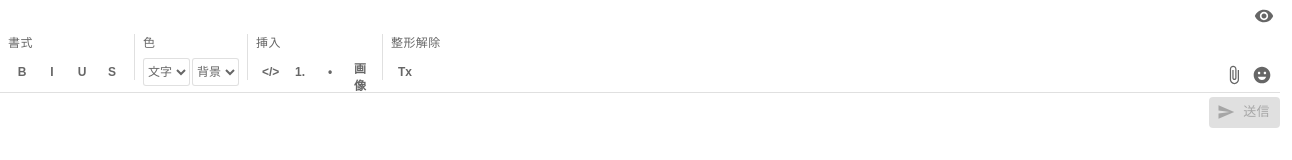
Scenario: RichEditor プレビュー切替機能 (#263) › プレビューモード → 編集モードの切替 › プレビューモード解除後にエディタツールバーも再表示される
Expected: the element with test id "editor-toolbar" is shown, [0, 28, 1280, 93]
Click the button named "プレビュー". click: {"x": 1264, "y": 16}
box: [1252, 4, 1276, 28]
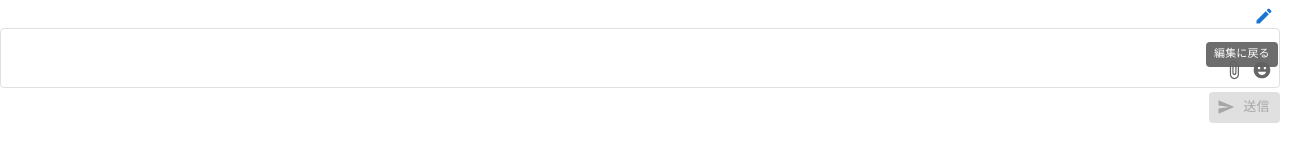
Expected: the element with test id "editor-toolbar" is gone
Click the button named "編集に戻る". click: {"x": 1264, "y": 16}
box: [1252, 4, 1276, 28]
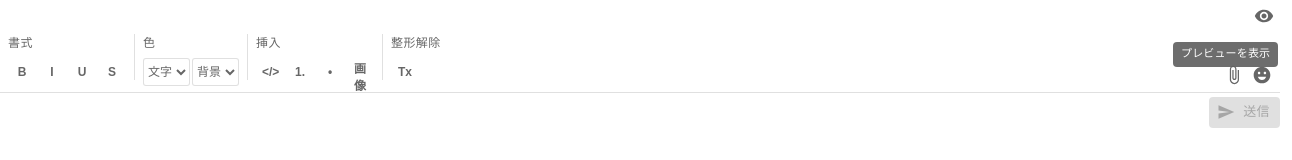
Expected: the element with test id "editor-toolbar" is shown, [0, 28, 1280, 93]
